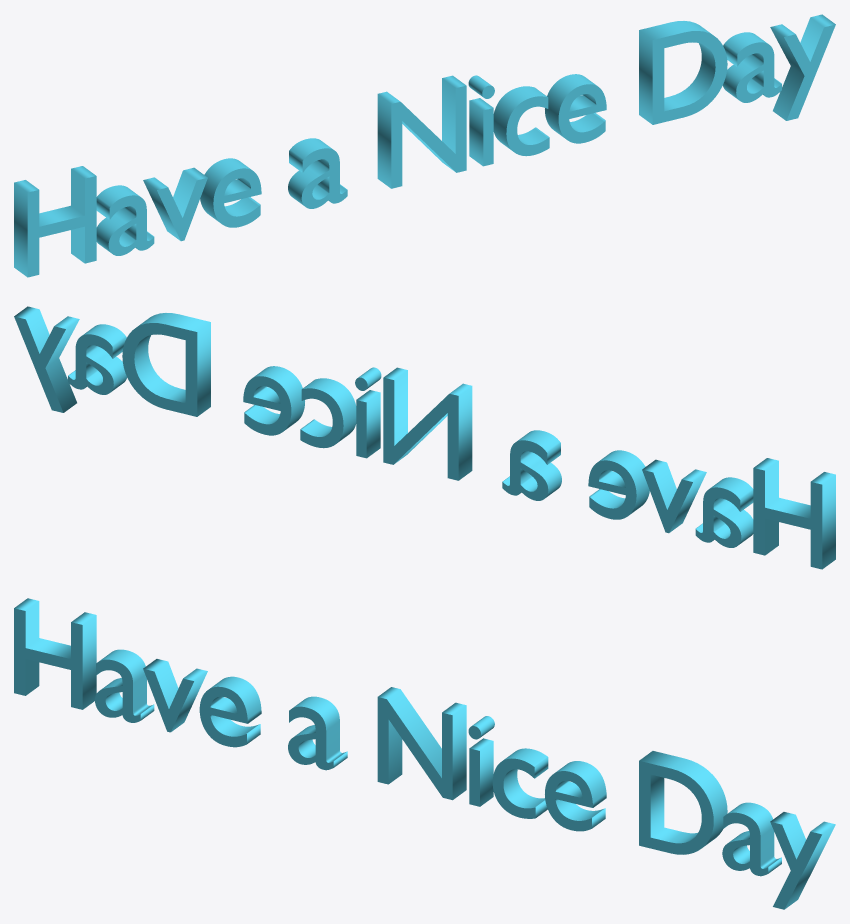
The model's file is console_ending_002.fbx.
3 views of the same model, one above another, from view 1: azimuth 30°, elevation 25°; view 2: azimuth 150°, elevation 25°; view 3: azimuth 330°, elevation 25° (orthographic).
Parts seen in each view (by area): view 1: Txt_Test_01.058; view 2: Txt_Test_01.058; view 3: Txt_Test_01.058.
Boxes of the visible parts, left/top/right/bottom form: Txt_Test_01.058: left=14, top=14, right=835, bottom=277; Txt_Test_01.058: left=14, top=306, right=835, bottom=569; Txt_Test_01.058: left=14, top=598, right=835, bottom=909.
Bounding box in the file's own units: 0.916 × 0.123 × 0.027.
